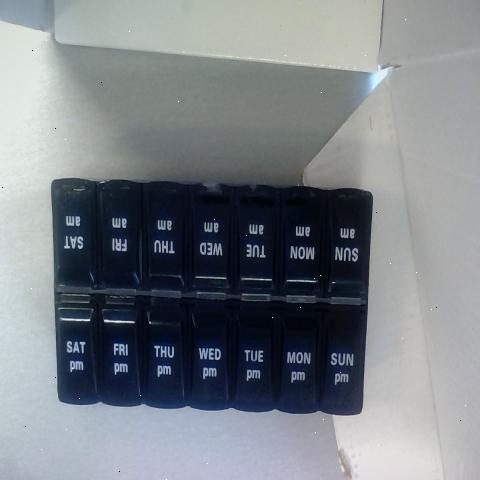FRI-am: (99, 190, 135, 284)
FRI-pm: (101, 294, 139, 402)
MON-am: (283, 195, 327, 298)
MON-pm: (278, 302, 318, 413)
SAT-am: (55, 188, 94, 284)
SAT-pm: (58, 295, 96, 405)
SUN-am: (330, 199, 365, 296)
SUN-pm: (323, 301, 361, 413)
THU-am: (144, 188, 184, 284)
THU-pm: (146, 301, 186, 409)
TUE-am: (238, 196, 278, 299)
TUE-pm: (236, 302, 278, 413)
WED-am: (192, 190, 233, 294)
WED-pm: (188, 297, 230, 409)
